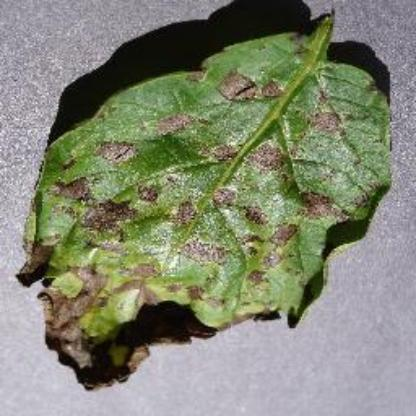Early-Blight: (17, 7, 402, 393)
